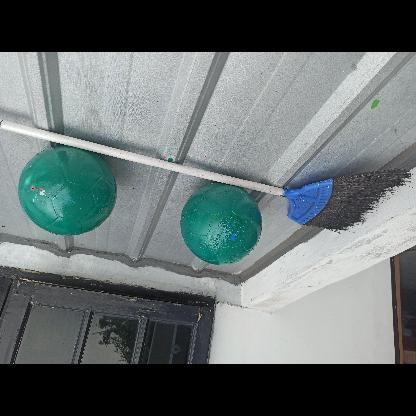green_ball: (20, 142, 116, 238), (180, 182, 264, 266)
